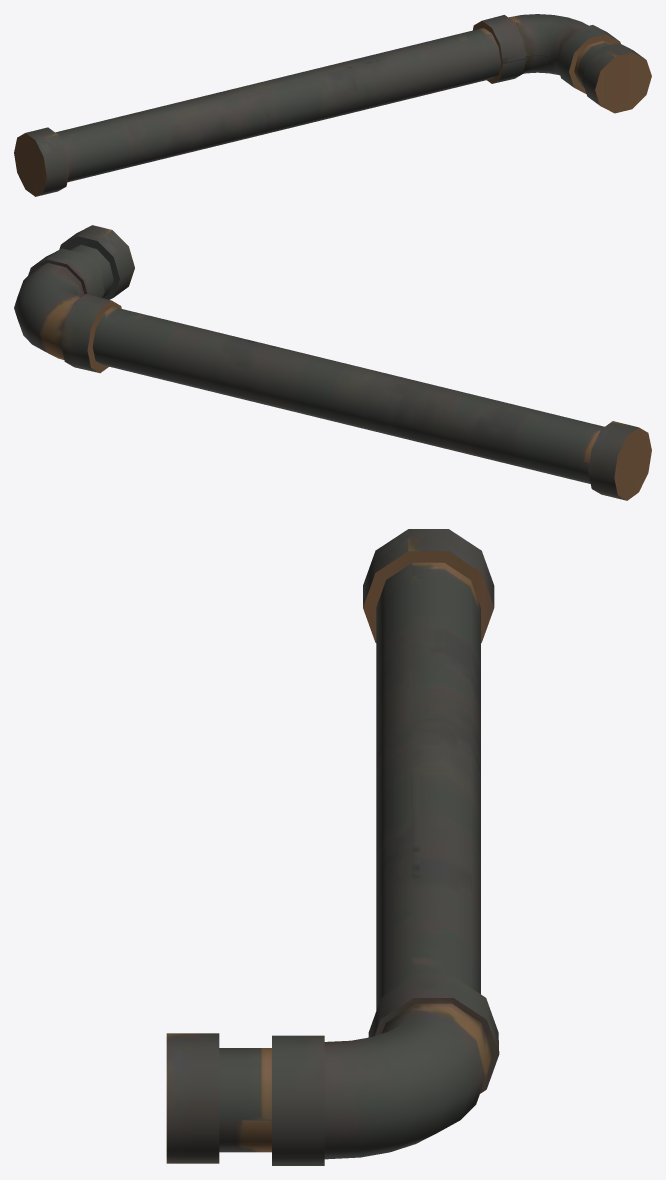
3 views of the same model, one above another, from view 1: azimuth 30°, elevation 25°; view 2: azimuth 150°, elevation 25°; view 3: azimuth 270°, elevation 25° (orthographic). The views are drawn at different scales.
Visible parts, largest first — view 1: body0_model0_lod0_mesh0; view 2: body0_model0_lod0_mesh0; view 3: body0_model0_lod0_mesh0.
Part boxes in pixels (<box>): body0_model0_lod0_mesh0: <box>14,14,651,196</box>; body0_model0_lod0_mesh0: <box>14,225,651,500</box>; body0_model0_lod0_mesh0: <box>166,529,499,1165</box>.
Size of the model in its own units: 97.72 by 9.69 by 25.3.
1 material, 1 textured.
